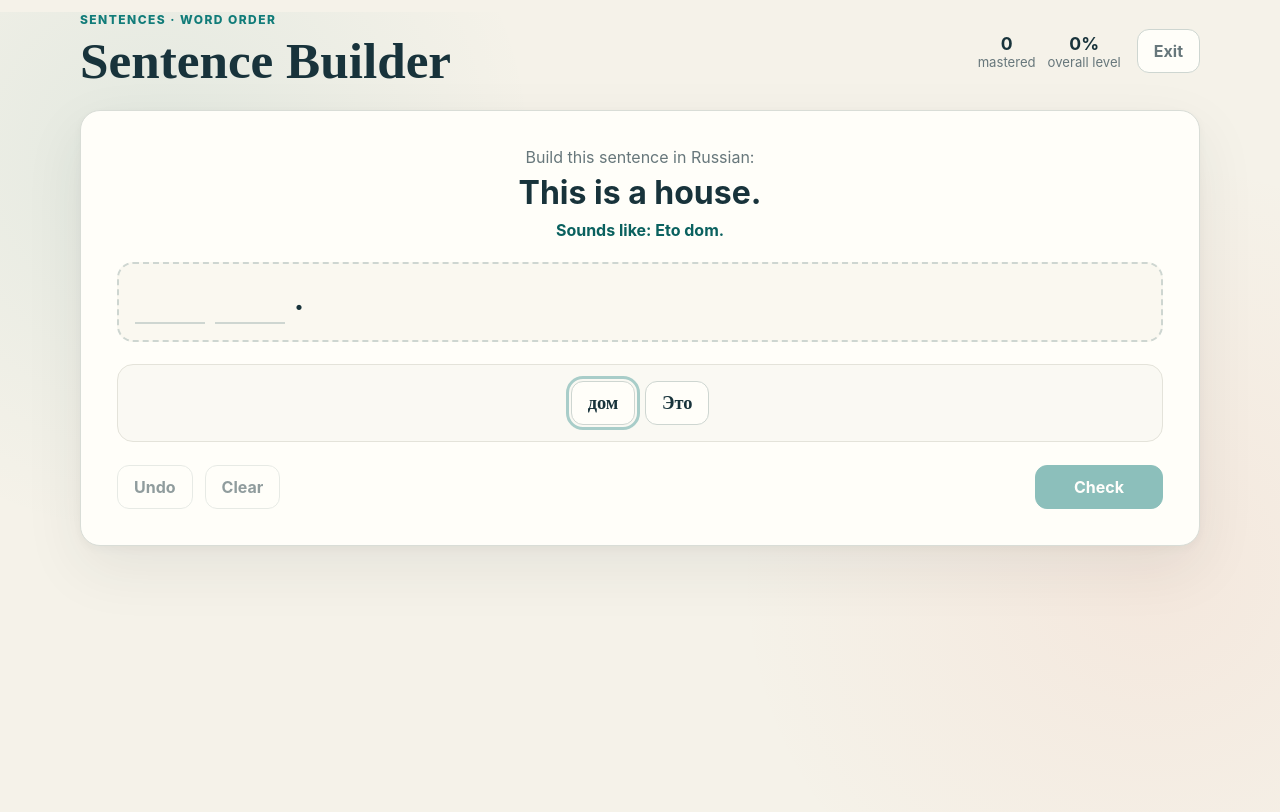
SentenceBuilderGame › builds the sentence with buttons, keeps punctuation fixed, and gives exact feedback
This screenshot has width=1280, height=812.
Expected: the heading "Sentence Builder" is shown, [80,32,451,89]
Expected: the text "Sounds like: Eto dom." is shown, [556,220,724,240]
Click the button named "Add Это to answer".
click(677, 403)  # box [645,381,709,425]
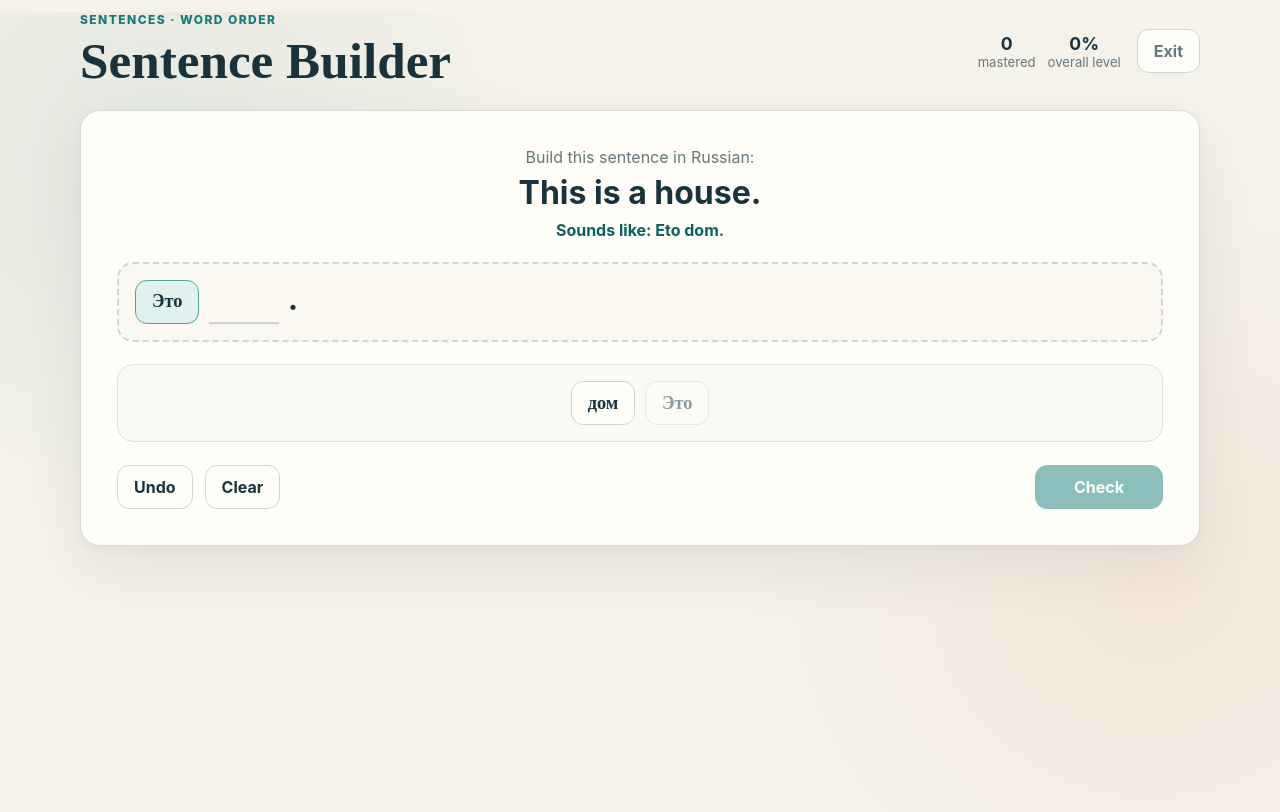
Click the button named "Add дом to answer".
click(603, 403)  # box [571,381,635,425]
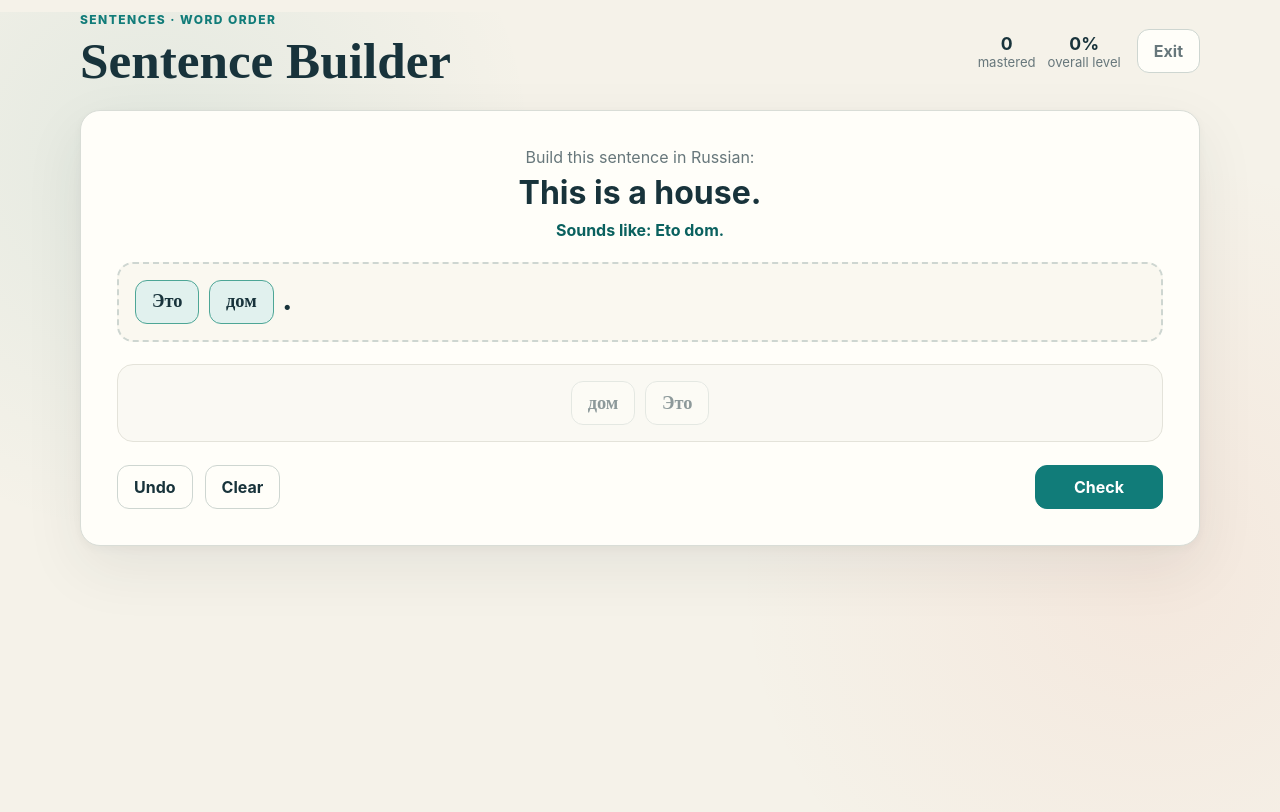
Press Enter
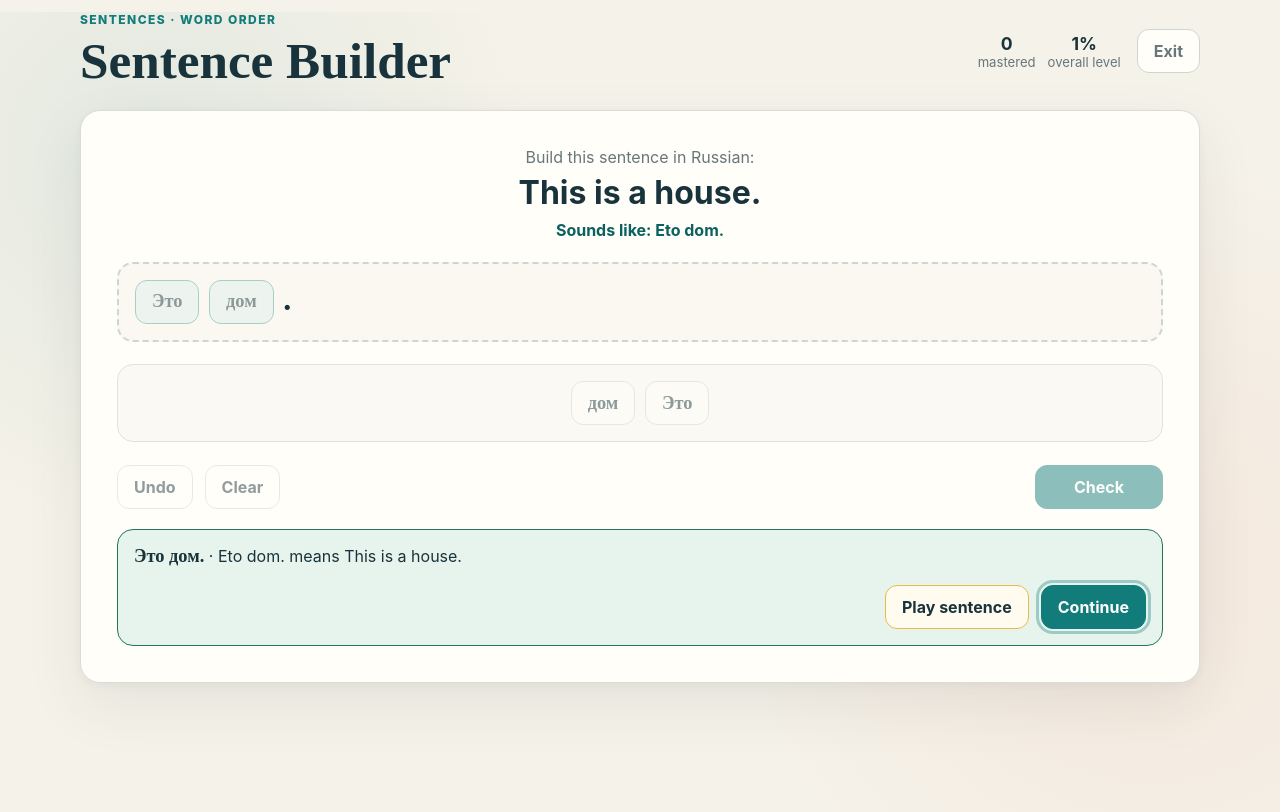
Now the message shows "Это дом. · Eto dom. means This is a house.", box [117,529,1163,646]
